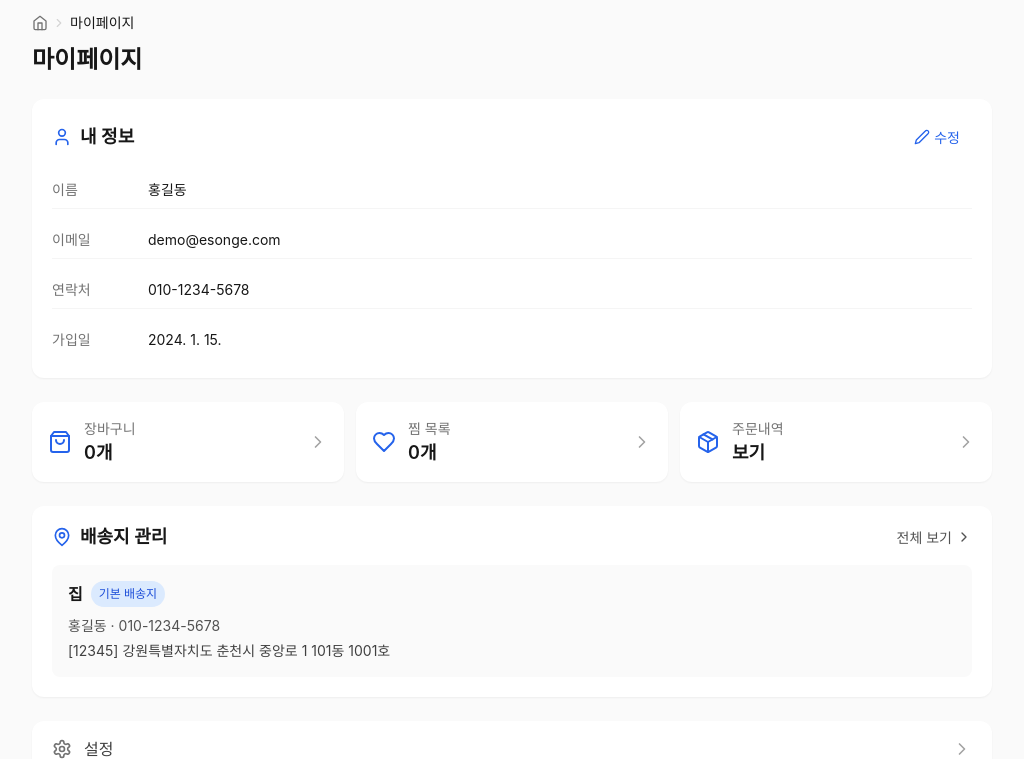
Test: MyPage › profile editing › should update profile when form is submitted
The image size is (1024, 759).
Click the button "수정": (937, 137) [902,119,972,155]
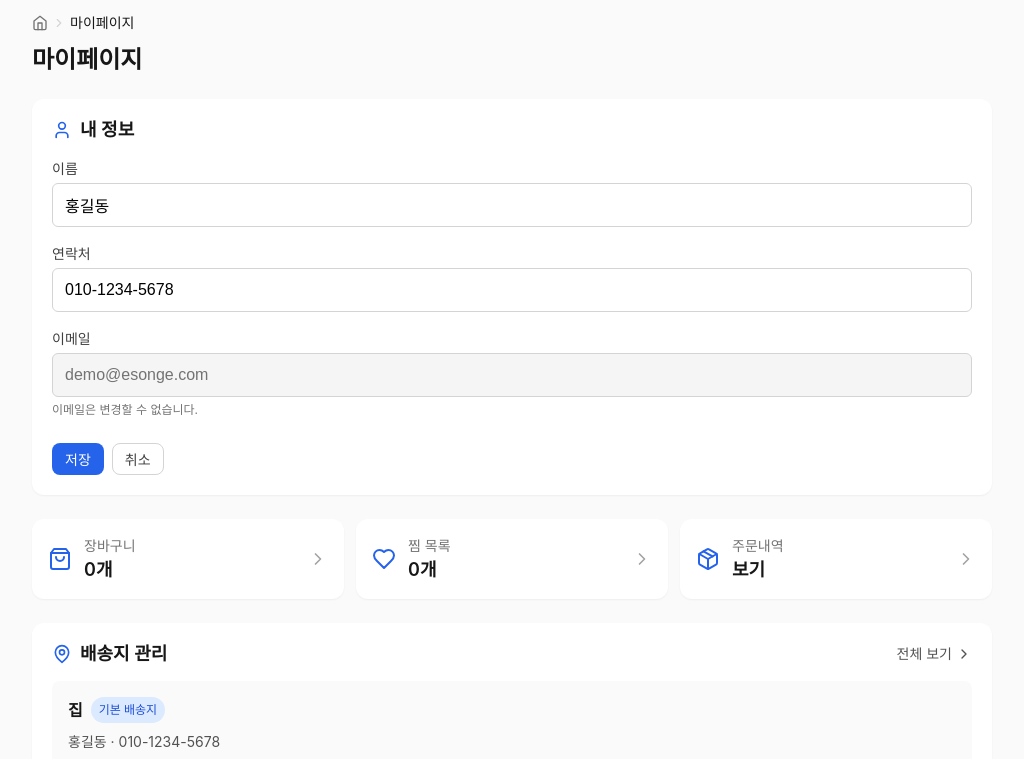
// Find name input by its value
Replace the text in the field showing "홍길동" below "이름" with "김철수": (512, 204) [52,182,972,226]
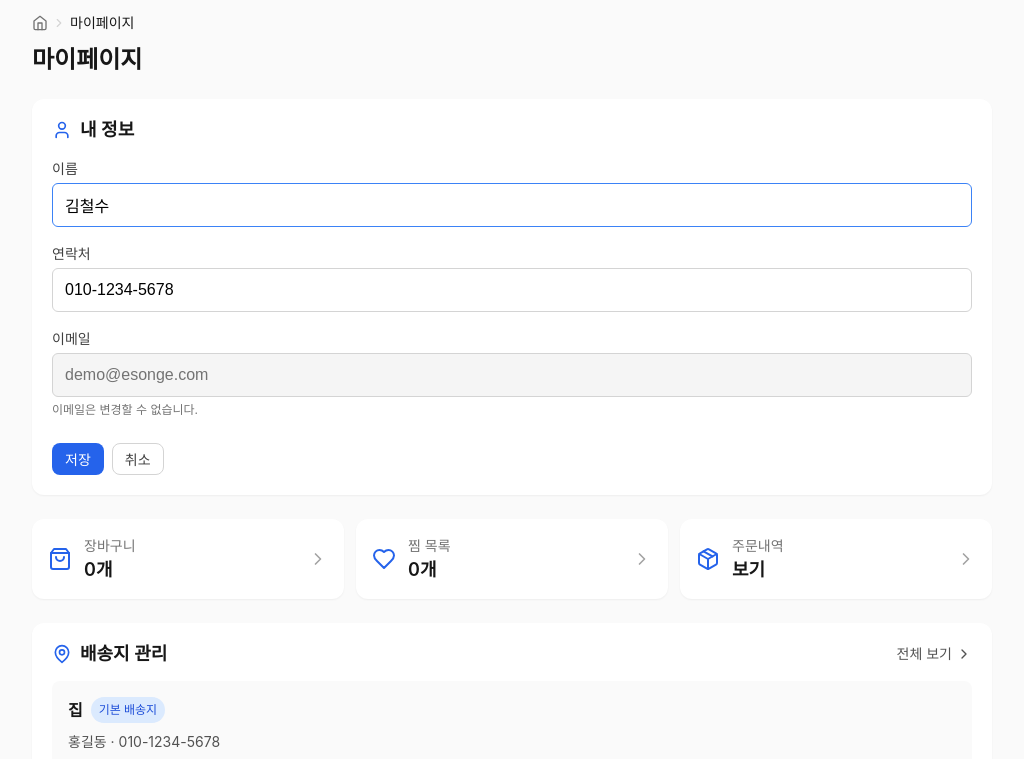
Click the button "저장": (78, 458) [52,442,104,474]
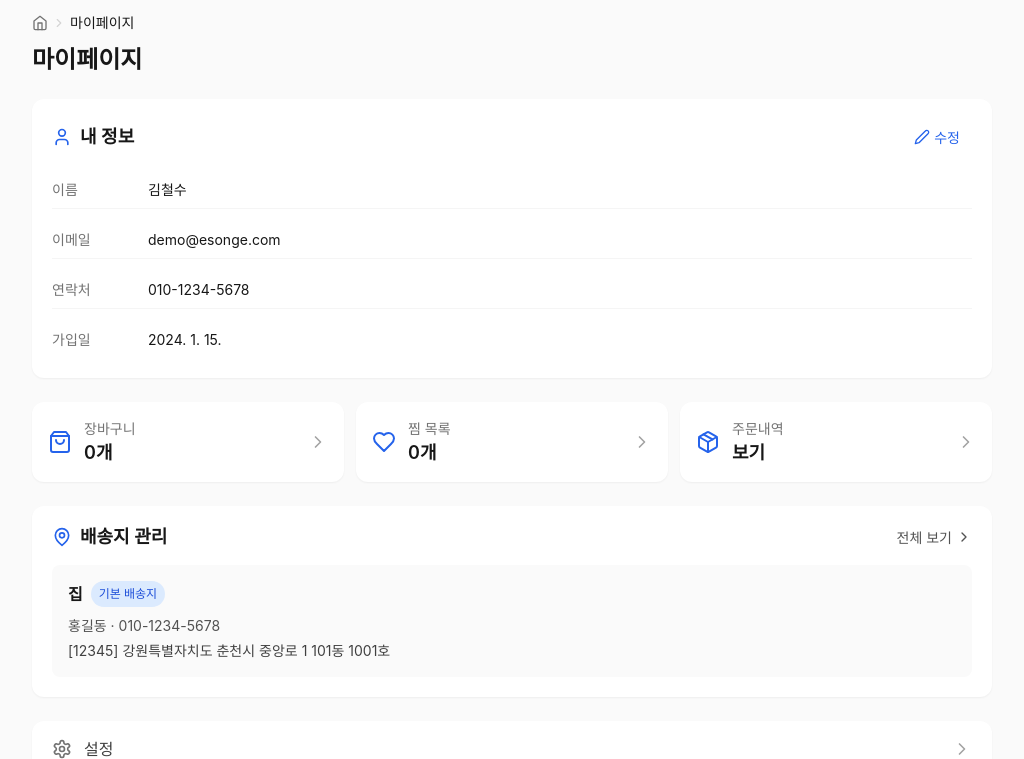
Expected: the text "김철수" is shown, [148,179,187,200]
